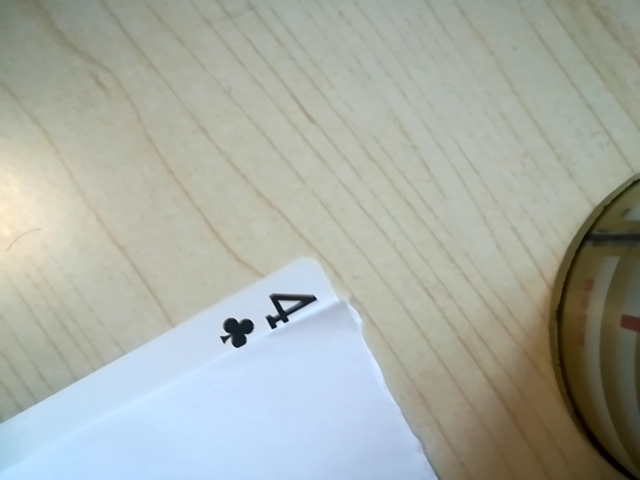mh 4: (203, 283, 336, 352)
